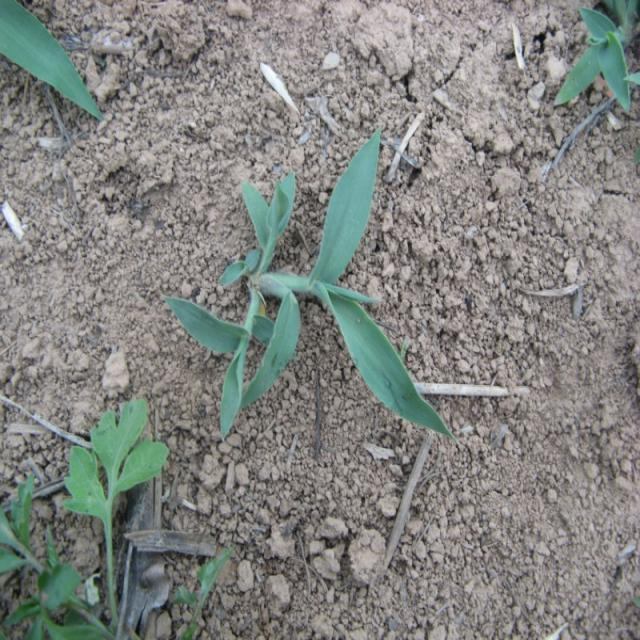bg: (164, 132, 456, 442)
